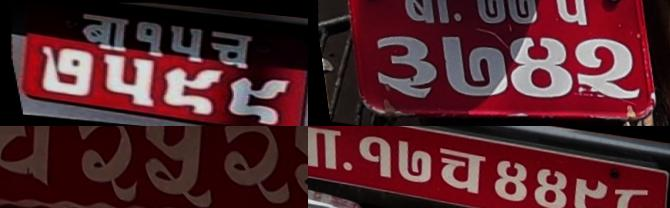0: (395, 0, 453, 27)
1: (210, 126, 296, 205), (564, 30, 645, 101), (66, 126, 140, 195), (348, 129, 398, 182), (126, 18, 167, 56)
4: (485, 152, 534, 208), (522, 159, 572, 208), (161, 23, 210, 62)
5: (499, 29, 577, 103), (88, 52, 162, 105)
6: (130, 126, 213, 202), (281, 126, 308, 208)
7: (430, 31, 512, 103), (26, 42, 94, 98), (390, 133, 438, 189), (498, 0, 542, 27), (466, 0, 509, 26)
8: (602, 176, 655, 208), (544, 0, 593, 26)
9: (216, 72, 294, 126), (150, 62, 228, 114), (0, 126, 59, 181), (565, 170, 613, 208)
ba: (365, 30, 441, 101), (73, 11, 135, 51), (308, 126, 345, 173)
cha: (428, 141, 492, 199), (202, 28, 256, 68)
